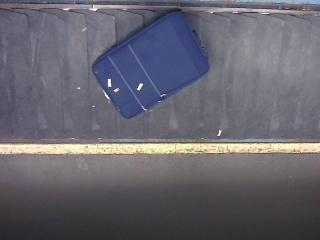Suitcase: (92, 11, 208, 119)
